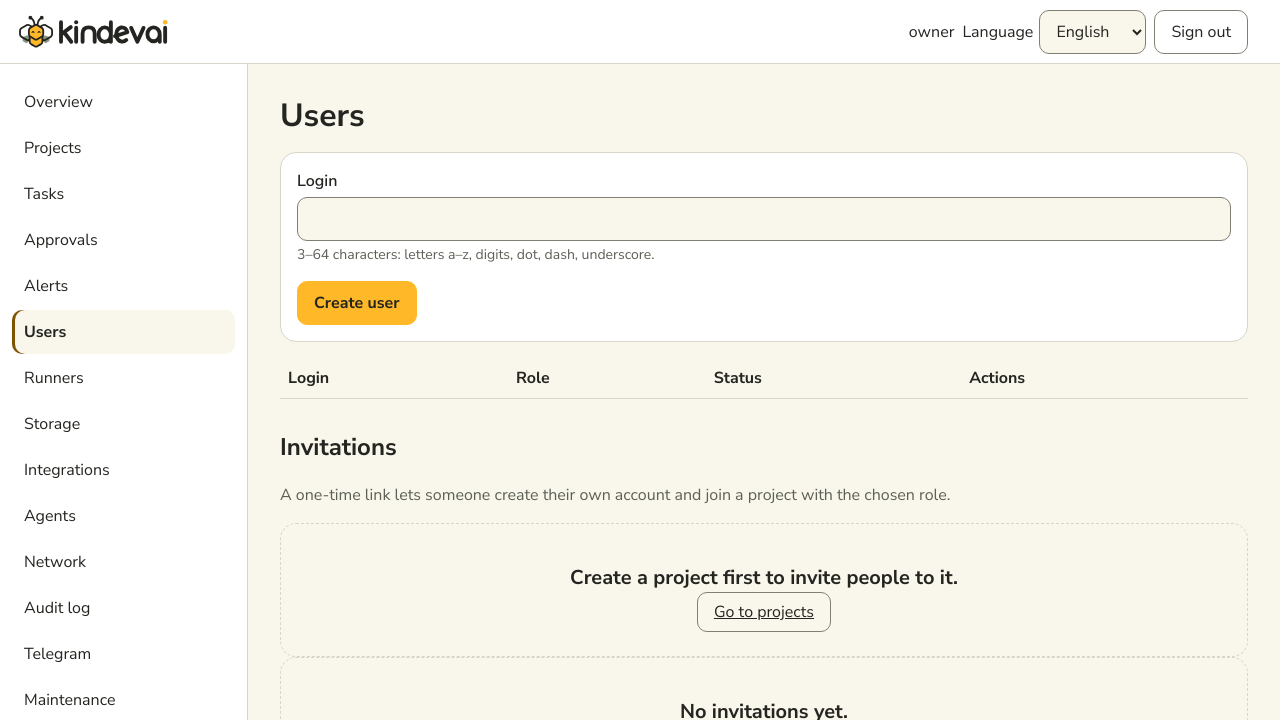
tells the owner when copying is not possible
Step 1. Click the field labelled "Login" → (764, 219), box [297,197,1231,241]
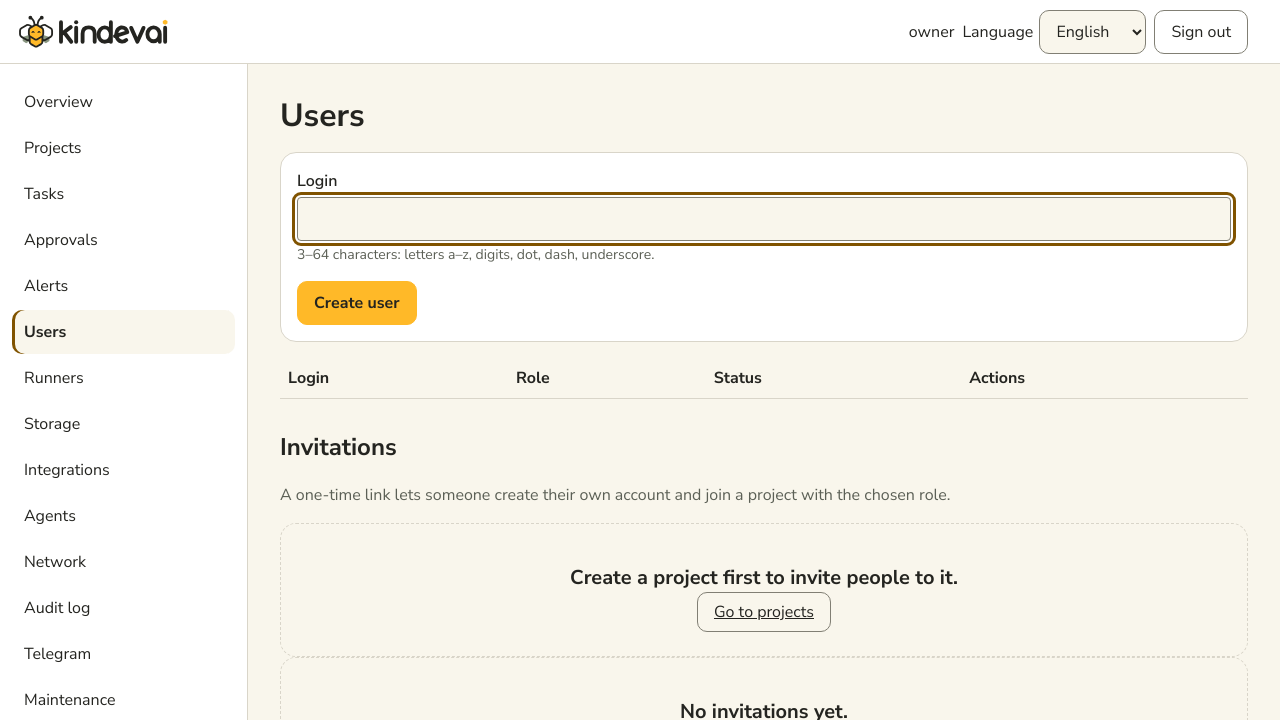
Step 2. Type keys "carol"
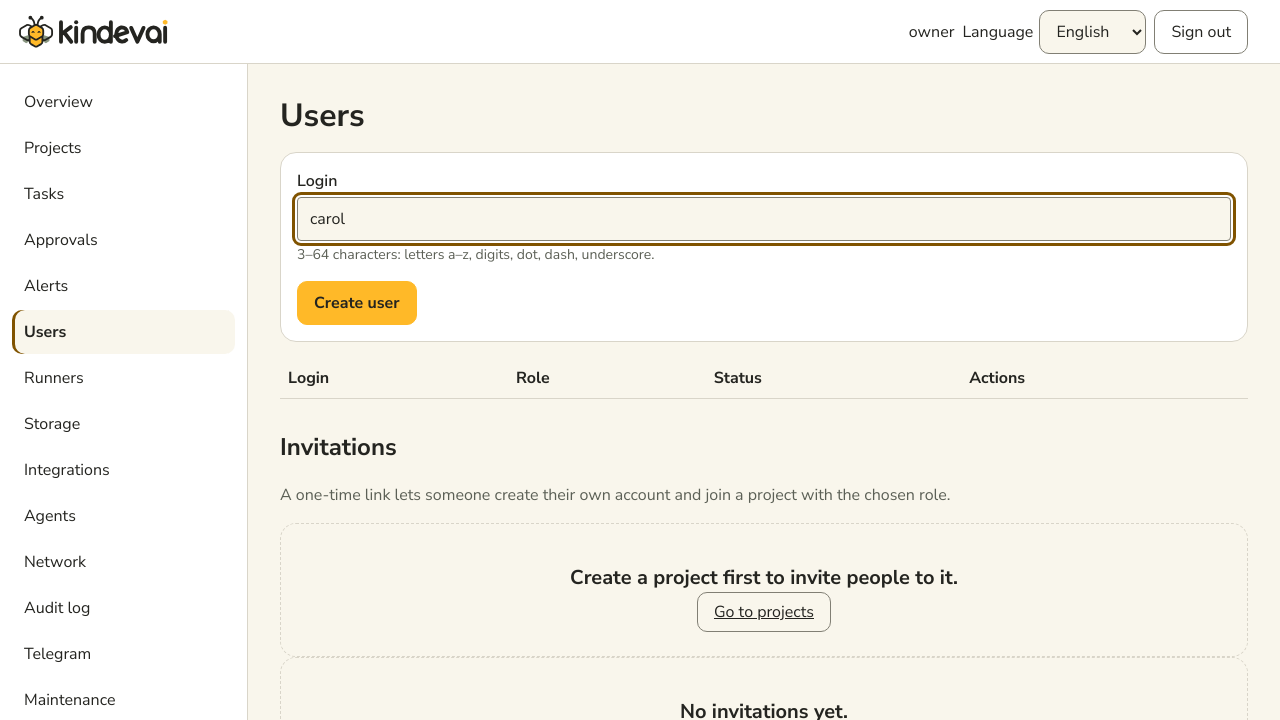
Step 3. Click the button "Create user" → (357, 303), box [297,281,416,325]
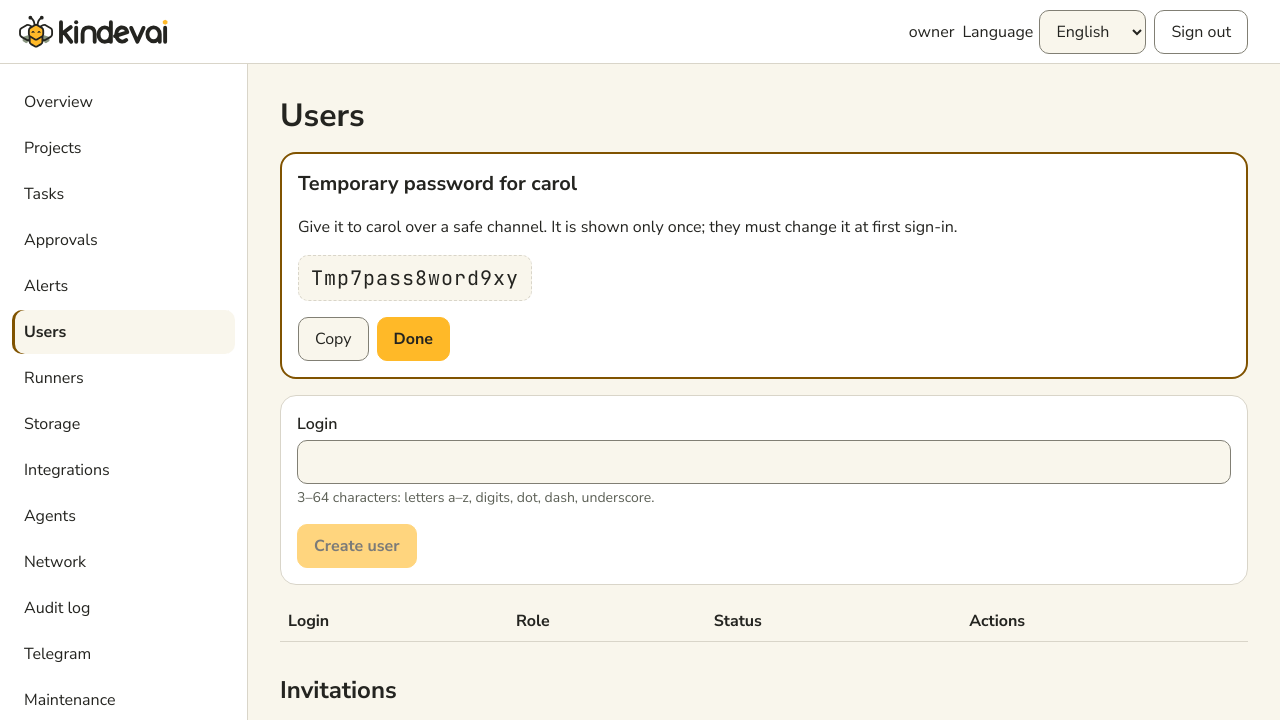
Step 4. Click the button "Copy" → (333, 339), box [298,317,368,361]
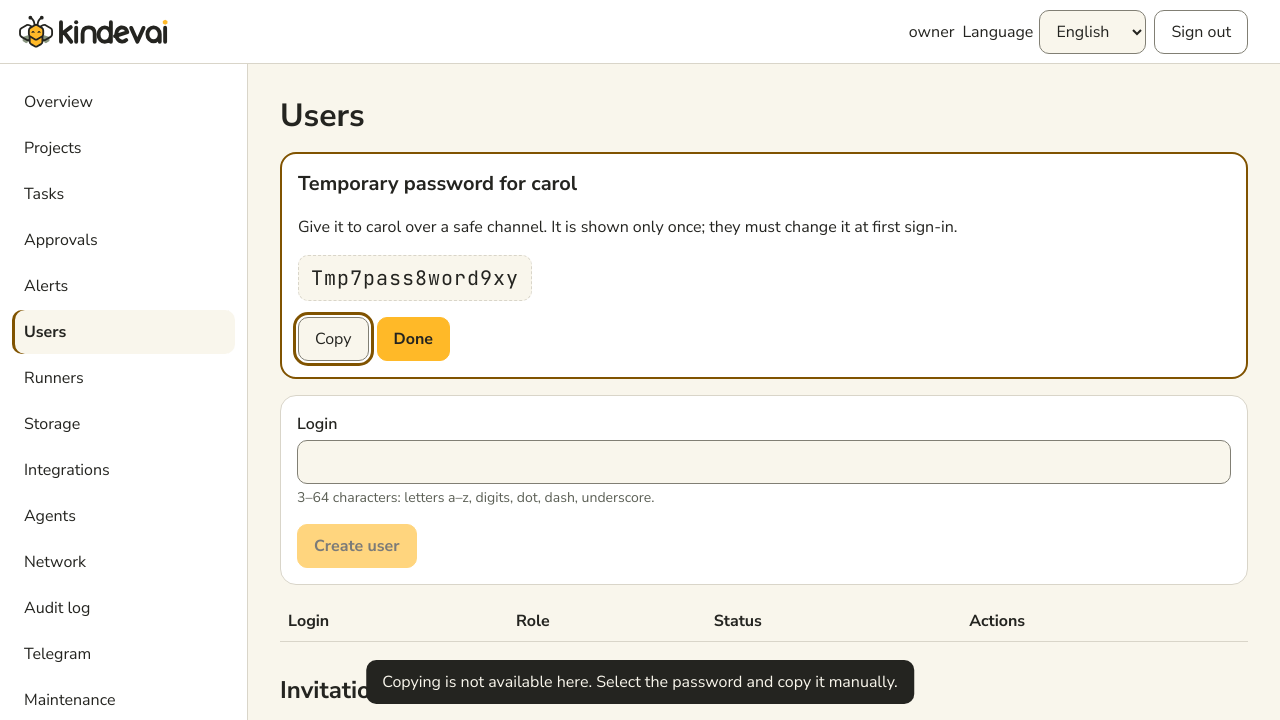
Expected: the text "Select the password and copy it manually" is shown, [382,671,898,693]
